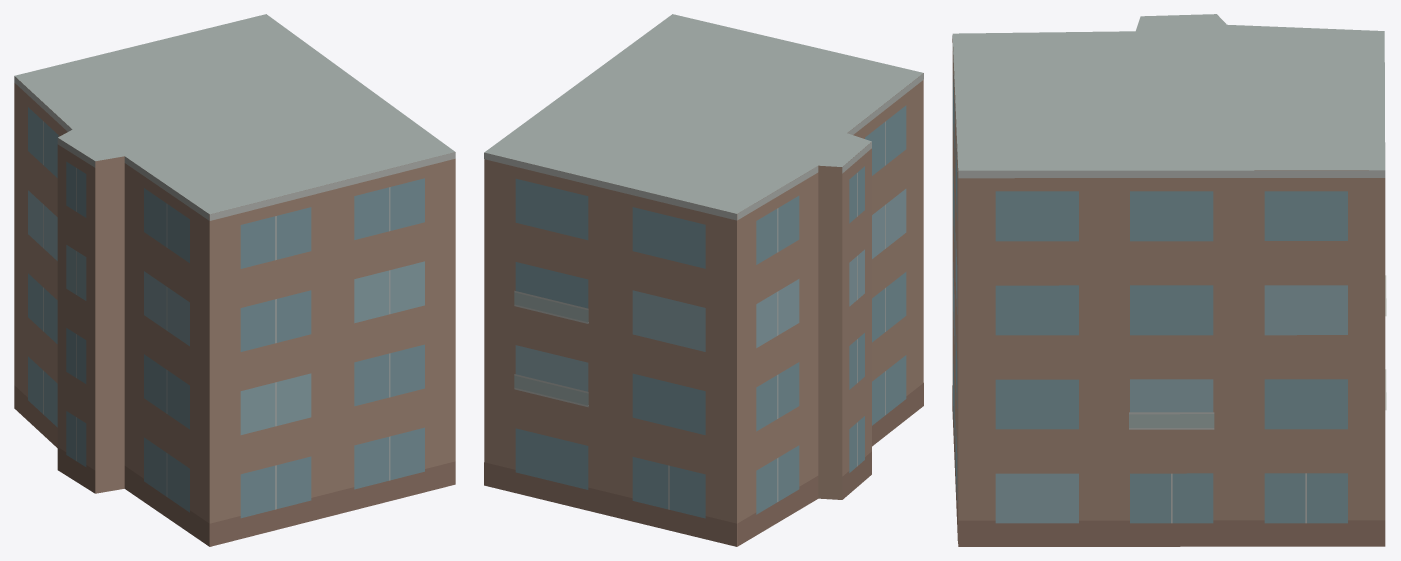
File: survey-upis-33006922.glb
The picture shows the model from 3 angles, left to right: view 1: azimuth 30°, elevation 25°; view 2: azimuth 150°, elevation 25°; view 3: azimuth 270°, elevation 25°; orthographic projection. The views are drawn at different scales.
Parts seen in each view (by area): view 1: survey-upis-33006922.tmp; view 2: survey-upis-33006922.tmp; view 3: survey-upis-33006922.tmp.
Part boxes in pixels (<box>): survey-upis-33006922.tmp: <box>14,14,455,546</box>; survey-upis-33006922.tmp: <box>484,14,923,546</box>; survey-upis-33006922.tmp: <box>952,14,1386,546</box>.
Size of the model in its own units: 10.93 by 12.2 by 12.76.
